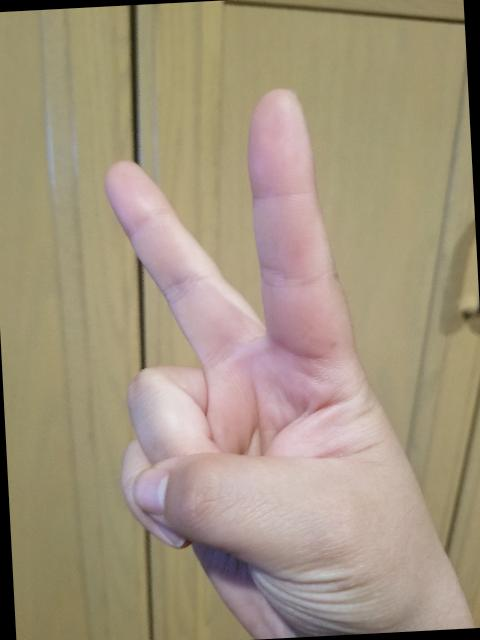V: (93, 73, 473, 640)
